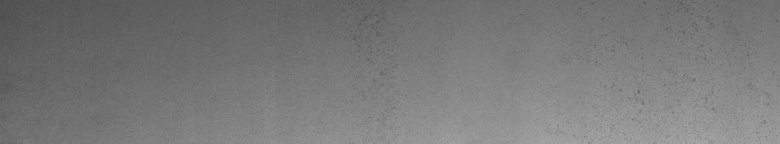ib: (628, 4, 766, 124)
